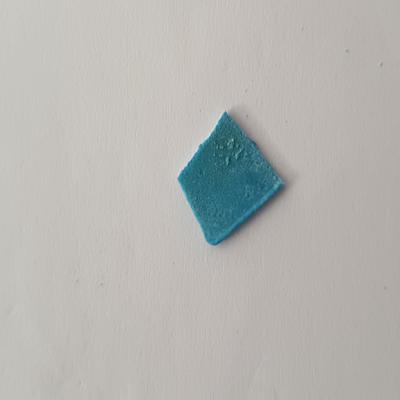plastic: (170, 104, 293, 249)
